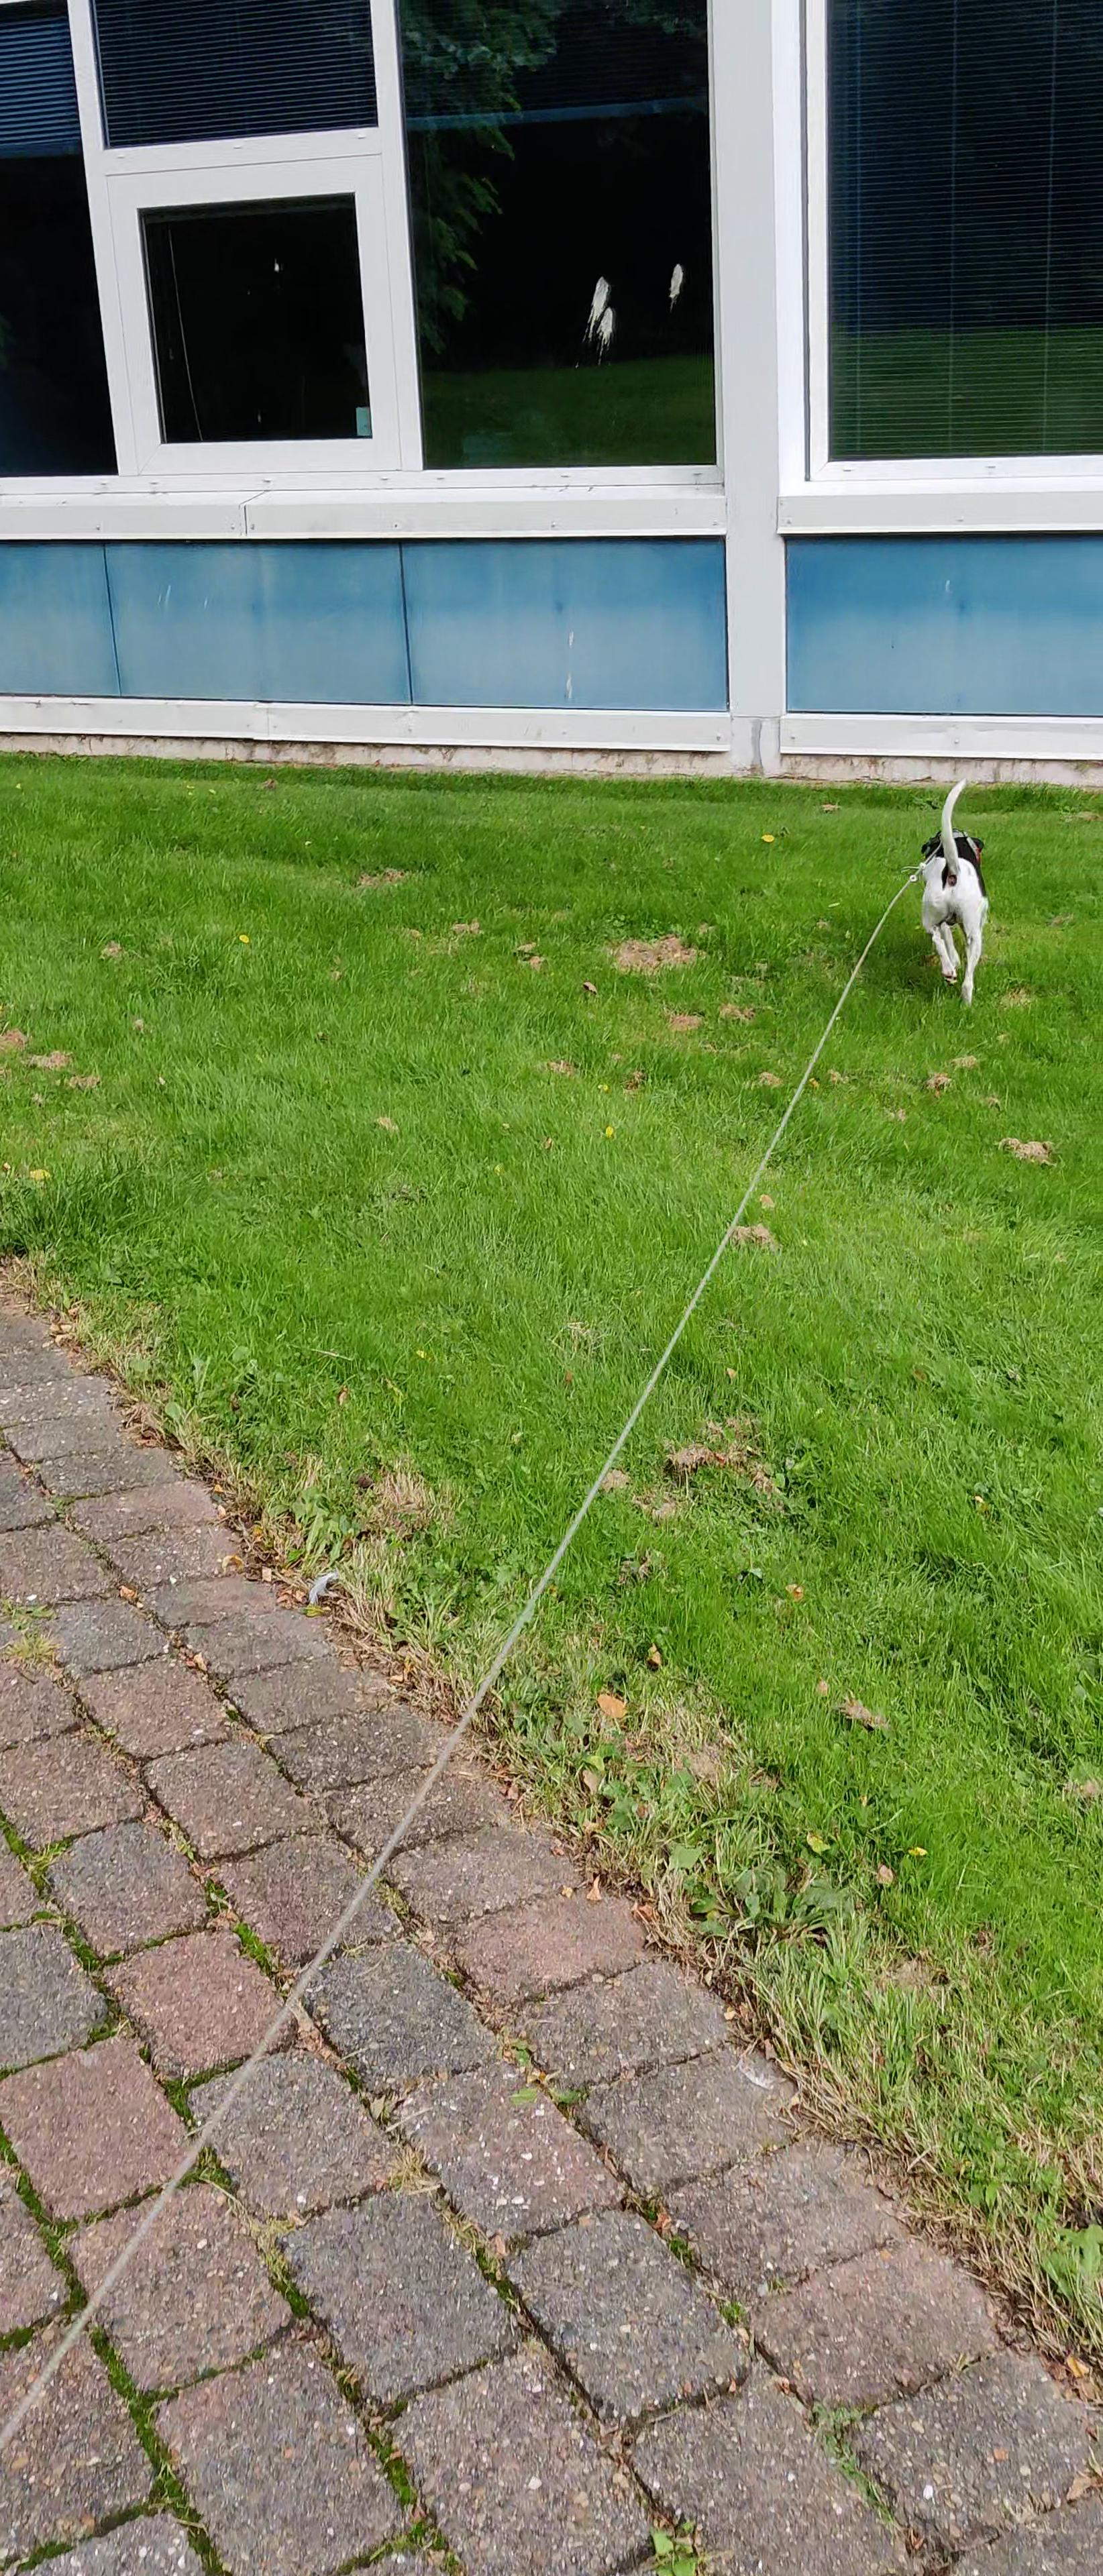Dog: (904, 769, 1004, 1023)
